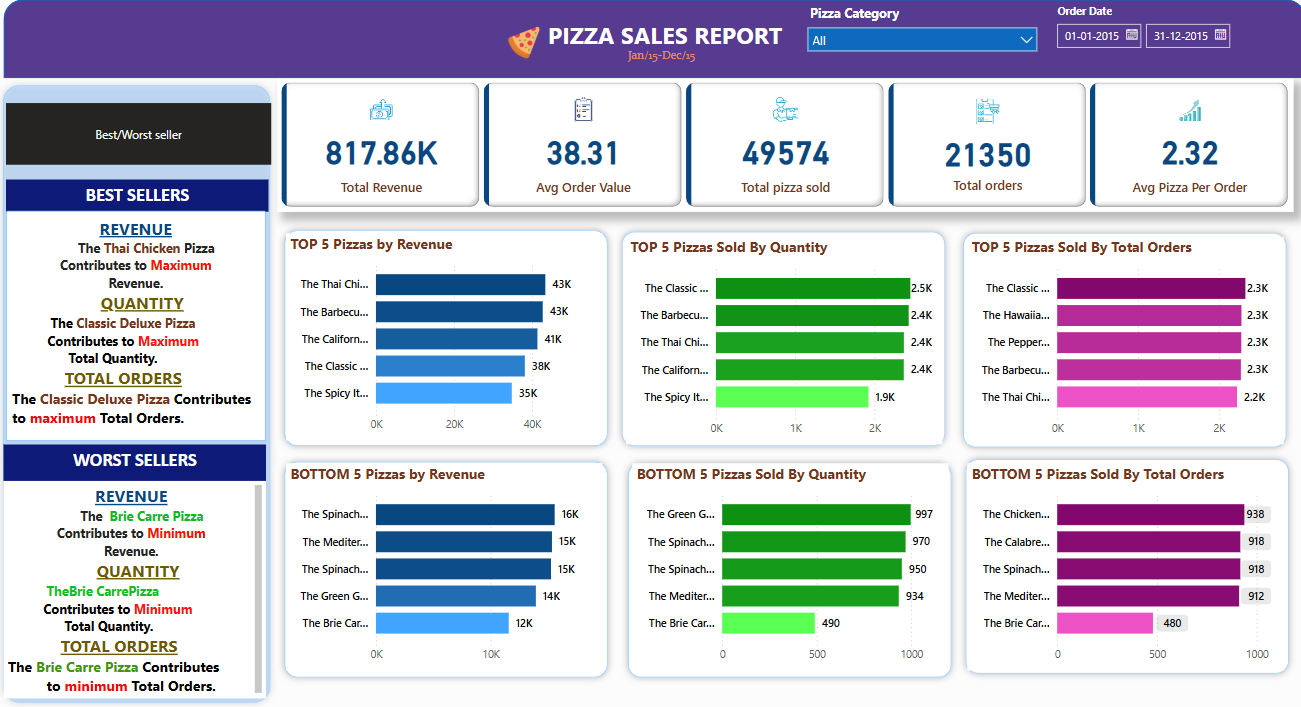

What the dashboard file says about the page in this screenshot:
{"tool":"powerbi","page":{"name":"Best/Worst seller","canvas":[1500,820],"ordinal":1},"visuals":[{"type":"shape","box":[0,98.6,321.4,721.4],"z":0},{"type":"cardVisual","fields":{"Data":["public pizza_sales.Total Revenue","public pizza_sales.Avg Order Value","public pizza_sales.Total pizza sold","public pizza_sales.Total orders","public pizza_sales.Avg Pizza Per Order"]},"box":[321.4,98.6,1161.4,152.9],"z":1000},{"type":"shape","box":[8.6,8.6,1488.6,90],"z":2000},{"type":"textbox","box":[730,483.8,355,12.5],"z":3000},{"type":"textbox","box":[612.5,25,303.8,65],"z":4000},{"type":"textbox","box":[717.5,57.5,140,28.8],"z":5000},{"type":"image","box":[575,33.8,55,47.5],"z":6000},{"type":"shape","box":[321.4,264.3,385.7,262.9],"z":7000},{"type":"textbox","box":[11.4,214.3,300,37.1],"z":8000},{"type":"textbox","box":[11.4,250,297.1,262.9],"z":9000},{"type":"textbox","box":[8.6,558.6,300,248.6],"z":10000},{"type":"textbox","box":[8.6,517.1,300,41.4],"z":11000},{"type":"slicer","title":"Pizza Category","fields":{"Values":["public pizza_sales.pizza_category"]},"box":[917.1,8.6,282.9,82.9],"z":12000},{"type":"slicer","fields":{"Values":["public pizza_sales.order_date"]},"box":[1200,8.6,261.4,87.1],"z":13000},{"type":"shape","box":[1097.1,267.1,385.7,261.4],"z":14000},{"type":"shape","box":[707.1,265.7,385.7,261.4],"z":15000},{"type":"shape","box":[321.4,528.6,385.7,262.9],"z":16000},{"type":"shape","box":[714.3,530,385.7,261.4],"z":17000},{"type":"shape","box":[1100,525.7,385.7,261.4],"z":18000},{"type":"barChart","title":"TOP 5 Pizzas by Revenue","fields":{"Category":["public pizza_sales.pizza_name"],"Y":["public pizza_sales.Total Revenue"]},"box":[331.4,275.7,361.4,237.1],"z":19000},{"type":"barChart","title":"BOTTOM 5 Pizzas by Revenue","fields":{"Category":["public pizza_sales.pizza_name"],"Y":["public pizza_sales.Total Revenue"]},"box":[331.4,538.6,361.4,237.1],"z":20000},{"type":"barChart","title":"TOP 5 Pizzas Sold By Quantity","fields":{"Category":["public pizza_sales.pizza_name"],"Y":["public pizza_sales.Total pizza sold"]},"box":[720,280,361.4,237.1],"z":21000},{"type":"barChart","title":"BOTTOM 5 Pizzas Sold By Quantity","fields":{"Category":["public pizza_sales.pizza_name"],"Y":["public pizza_sales.Total pizza sold"]},"box":[727.1,538.6,361.4,237.1],"z":22000},{"type":"barChart","title":"TOP 5 Pizzas Sold By Total Orders","fields":{"Category":["public pizza_sales.pizza_name"],"Y":["public pizza_sales.Total orders"]},"box":[1110,280,361.4,237.1],"z":23000},{"type":"barChart","title":"BOTTOM 5 Pizzas Sold By Total Orders","fields":{"Category":["public pizza_sales.pizza_name"],"Y":["public pizza_sales.Total orders"]},"box":[1110,538.6,361.4,237.1],"z":24000},{"type":"pageNavigator","box":[11.7,126.7,303.3,70],"z":24001}]}

Visuals, with their boxes in screenshot pixels (x1, y1, x2, y2), scaled from the page's 1500x820 canvas onto the 1301x707 screenshot:
shape: (0, 85, 279, 706)
cardVisual - public pizza_sales.Total Revenue x public pizza_sales.Avg Order Value: (279, 85, 1286, 217)
shape: (7, 7, 1299, 85)
textbox: (633, 417, 941, 428)
textbox: (531, 22, 795, 78)
textbox: (622, 50, 744, 74)
image: (499, 29, 546, 70)
shape: (279, 228, 613, 455)
textbox: (10, 185, 270, 217)
textbox: (10, 216, 268, 442)
textbox: (7, 482, 268, 696)
textbox: (7, 446, 268, 482)
"Pizza Category" slicer: (795, 7, 1041, 79)
slicer - public pizza_sales.order_date: (1041, 7, 1268, 83)
shape: (952, 230, 1286, 456)
shape: (613, 229, 948, 454)
shape: (279, 456, 613, 682)
shape: (620, 457, 954, 682)
shape: (954, 453, 1289, 679)
"TOP 5 Pizzas by Revenue" barChart: (287, 238, 601, 442)
"BOTTOM 5 Pizzas by Revenue" barChart: (287, 464, 601, 669)
"TOP 5 Pizzas Sold By Quantity" barChart: (624, 241, 938, 446)
"BOTTOM 5 Pizzas Sold By Quantity" barChart: (631, 464, 944, 669)
"TOP 5 Pizzas Sold By Total Orders" barChart: (963, 241, 1276, 446)
"BOTTOM 5 Pizzas Sold By Total Orders" barChart: (963, 464, 1276, 669)
pageNavigator: (10, 109, 273, 170)
